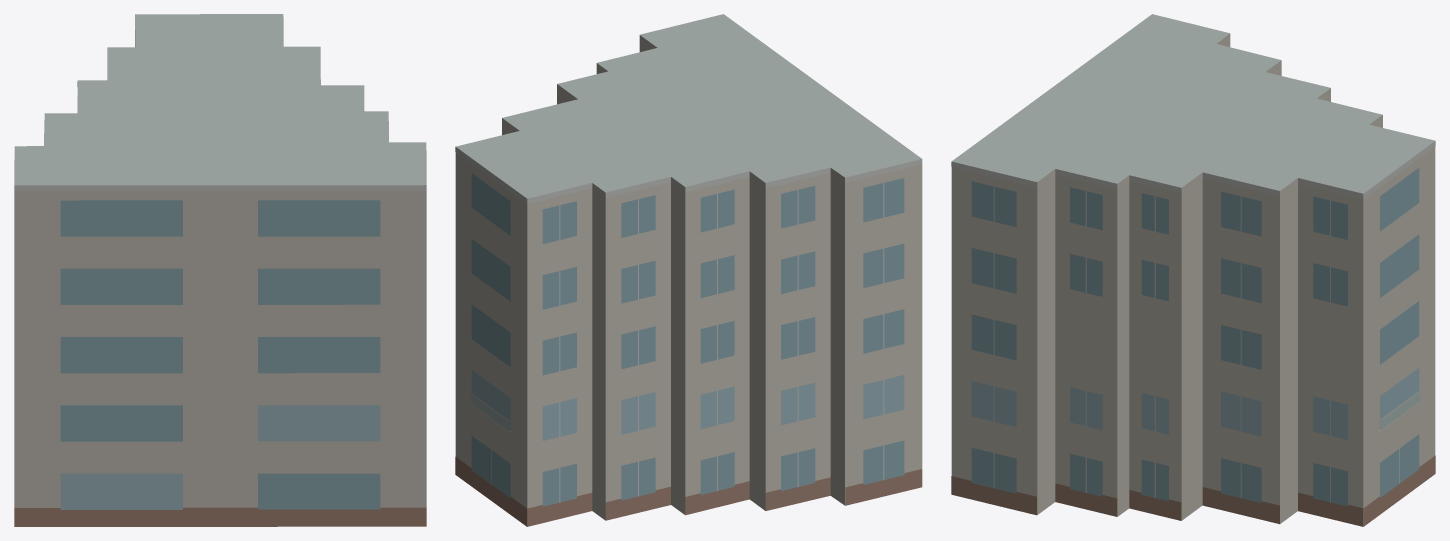
File: survey-upis-33039756.glb
The picture shows the model from 3 angles, left to right: view 1: azimuth 30°, elevation 25°; view 2: azimuth 150°, elevation 25°; view 3: azimuth 270°, elevation 25°; orthographic projection. The views are drawn at different scales.
Parts seen in each view (by area): view 1: survey-upis-33039756.tmp; view 2: survey-upis-33039756.tmp; view 3: survey-upis-33039756.tmp.
Boxes of the visible parts, x1,y1,x2,y2 form: survey-upis-33039756.tmp: (14, 14, 426, 526); survey-upis-33039756.tmp: (455, 14, 922, 526); survey-upis-33039756.tmp: (951, 14, 1435, 526).
Size of the model in its own units: 16.79 by 14.5 by 19.1.
